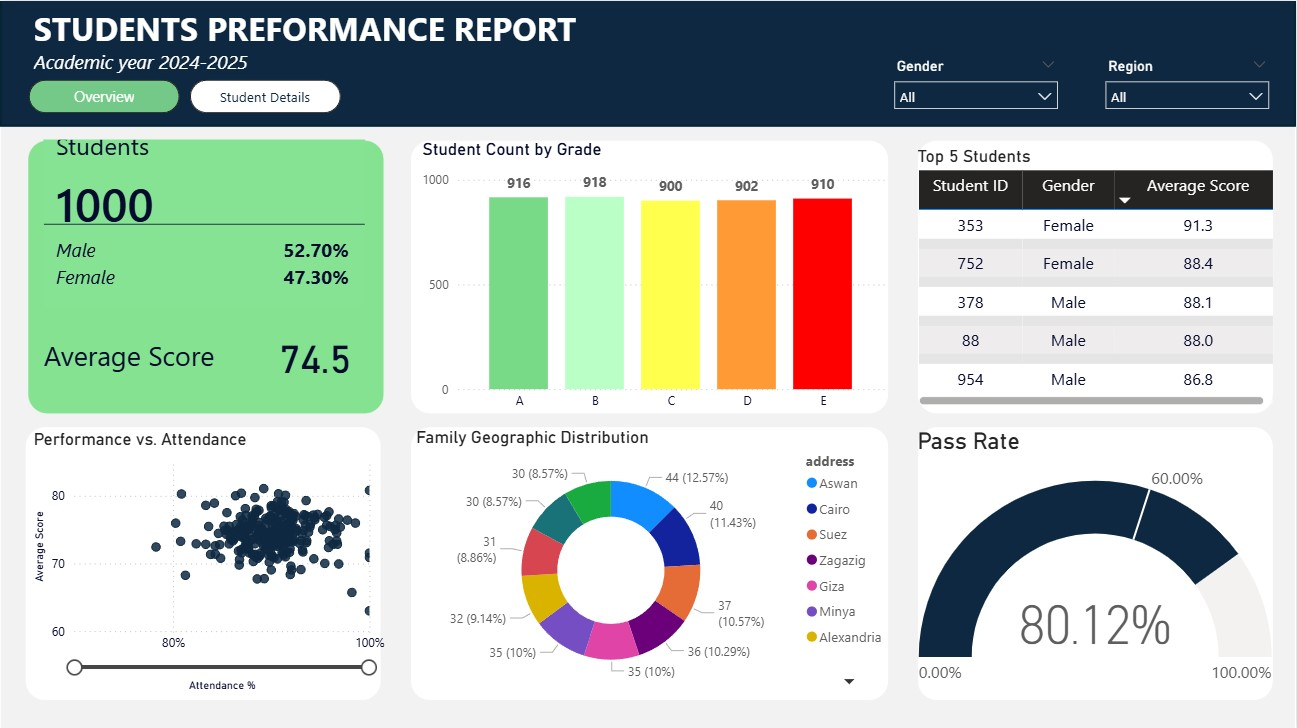

The page's visual inventory and layout, read from the dashboard file:
{"tool":"powerbi","page":{"name":"Overview","canvas":[1280,720],"ordinal":0},"visuals":[{"type":"cardVisual","fields":{"Data":["dimstudent_fixed.NO of Students"]},"box":[38.3,131.8,327.4,175.7],"z":0},{"type":"textbox","box":[38.3,327.4,178.6,65.2],"z":1000},{"type":"card","fields":{"Values":["factexam_fixed.Avg Score"]},"box":[239.5,317.5,144.6,65.2],"z":2000},{"type":"clusteredColumnChart","title":"Student Count by Grade ","fields":{"Category":["factexam_fixed.Grade Letter"],"Y":["factexam_fixed.Student Count"]},"box":[412.4,136.1,466.3,277.8],"z":3000},{"type":"tableEx","title":"     Top 5 Students","fields":{"Values":["dimstudent_fixed.student_id","dimstudent_fixed.gender","factexam_fixed.Avg Score"]},"box":[901.2,143.8,361.2,261.2],"z":4000},{"type":"donutChart","title":"Family Geographic Distribution","fields":{"Category":["dimfamily_fixed.address"],"Y":["dimfamily_fixed.family_id"]},"box":[406.2,421.2,478.8,263.8],"z":5000},{"type":"scatterChart","title":"Performance vs. Attendance","fields":{"X":["factattendance_fixed.Attendance %"],"Y":["factexam_fixed.Avg Score"],"Category":["dimstudent_fixed.student_name"]},"box":[28.3,421.7,356.7,263.3],"z":6000},{"type":"gauge","fields":{"Y":["factexam_fixed.Pass Rate"]},"box":[901.2,421.2,361.2,263.8],"z":7000},{"type":"textbox","box":[28.3,0,561.7,78.3],"z":8000},{"type":"slicer","fields":{"Values":["dimstudent_fixed.gender"]},"box":[873.3,50,181.7,61.7],"z":9000},{"type":"slicer","fields":{"Values":["dimfamily_fixed.address"]},"box":[1081.7,50,181.7,61.7],"z":10000},{"type":"pageNavigator","box":[28.3,78.3,308.3,33.3],"z":11000}]}

Visuals, with their boxes in screenshot pixels (x1, y1, x2, y2), scaled from the page's 1280x720 canvas onto the 1297x728 screenshot:
cardVisual - dimstudent_fixed.NO of Students: select_region(39, 133, 371, 311)
textbox: select_region(39, 331, 220, 397)
card - factexam_fixed.Avg Score: select_region(243, 321, 389, 387)
"Student Count by Grade " clusteredColumnChart: select_region(418, 138, 890, 418)
"     Top 5 Students" tableEx: select_region(913, 145, 1279, 410)
"Family Geographic Distribution" donutChart: select_region(412, 426, 897, 693)
"Performance vs. Attendance" scatterChart: select_region(29, 426, 390, 693)
gauge - factexam_fixed.Pass Rate: select_region(913, 426, 1279, 693)
textbox: select_region(29, 0, 598, 79)
slicer - dimstudent_fixed.gender: select_region(885, 51, 1069, 113)
slicer - dimfamily_fixed.address: select_region(1096, 51, 1280, 113)
pageNavigator: select_region(29, 79, 341, 113)
